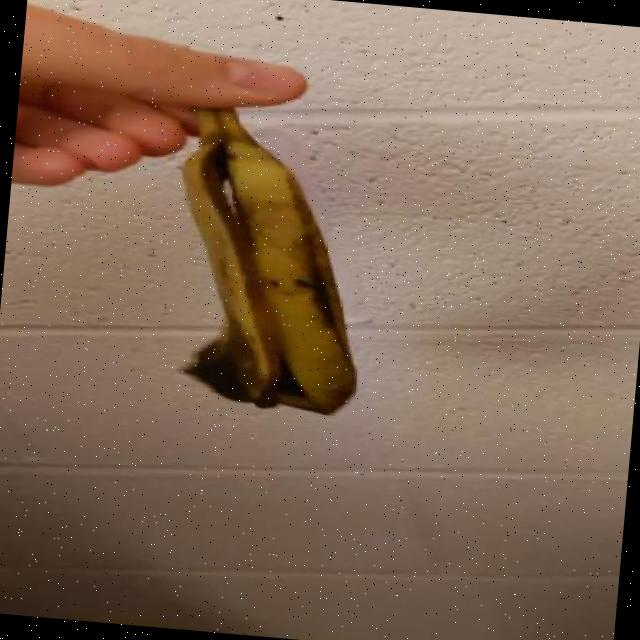banana-peel: (158, 100, 380, 418)
